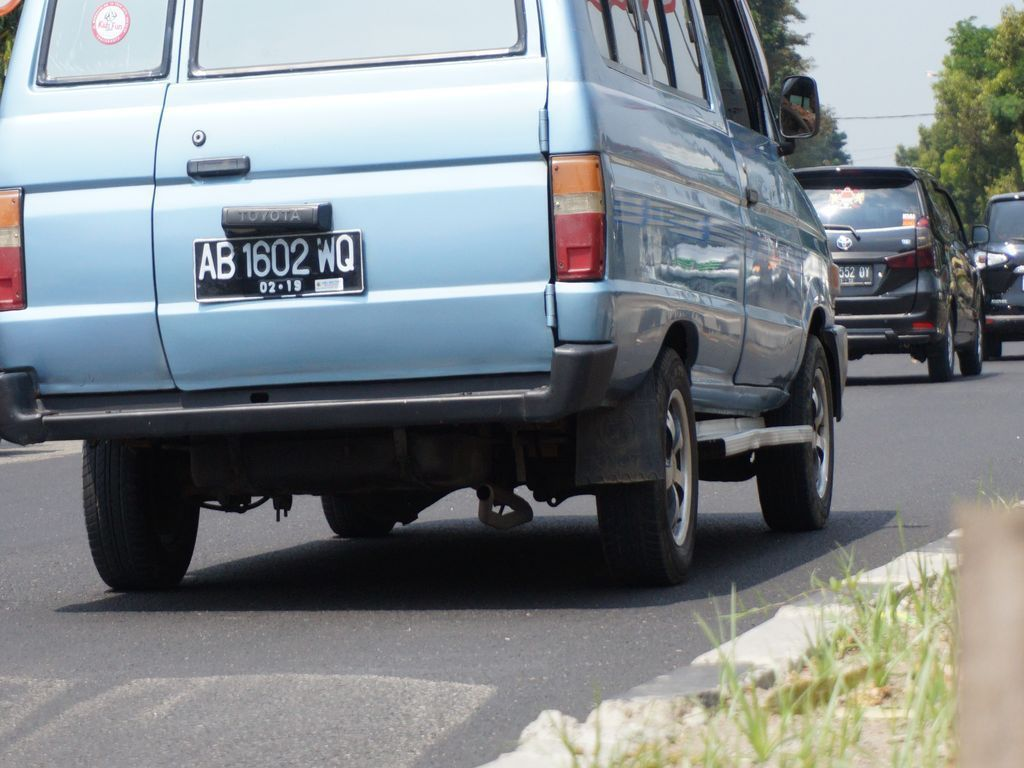plate: (196, 238, 361, 291)
